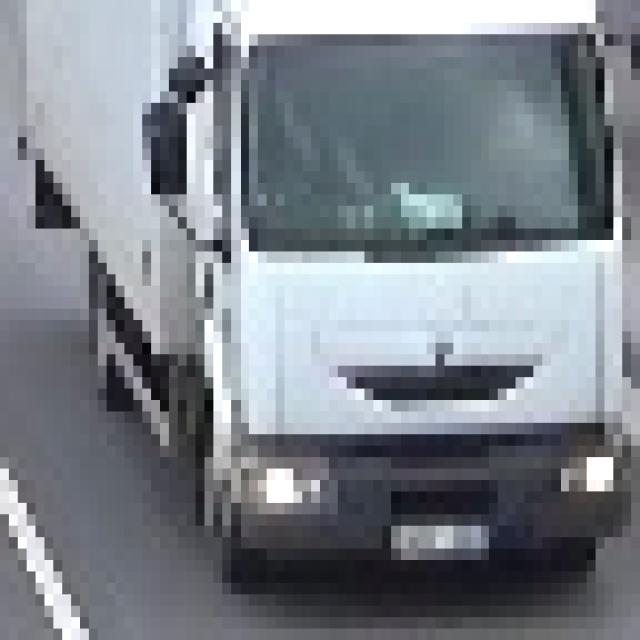truck: (1, 1, 632, 561)
